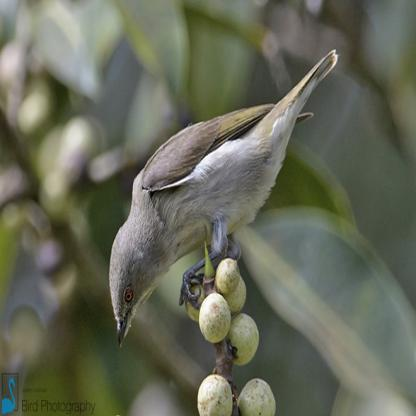Burung: (108, 46, 343, 349)
